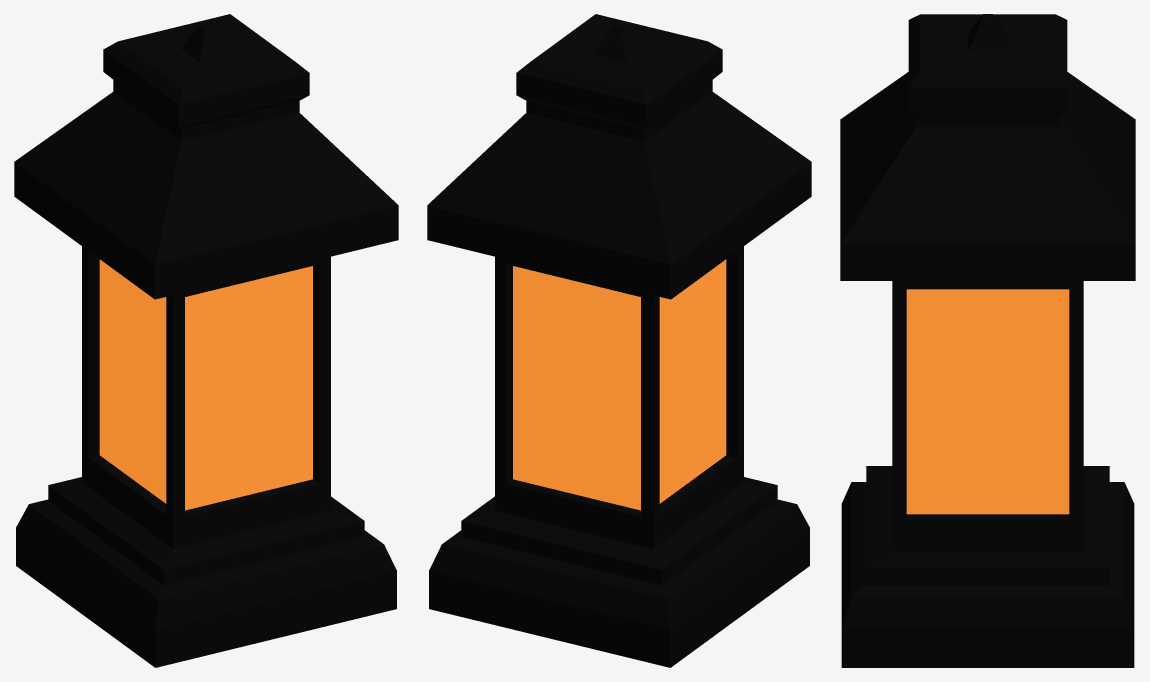
The model's file is lantern.glb.
The picture shows the model from 3 angles, left to right: view 1: azimuth 30°, elevation 25°; view 2: azimuth 150°, elevation 25°; view 3: azimuth 270°, elevation 25°; orthographic projection. The views are drawn at different scales.
Parts seen in each view (by area): view 1: Cube; view 2: Cube; view 3: Cube.
Part boxes in pixels (x1,y1,x2,y2): Cube: (14,14,398,667); Cube: (427,14,811,667); Cube: (840,14,1135,667).
Bounding box in the file's own units: 3.09 × 6.8 × 3.09.
